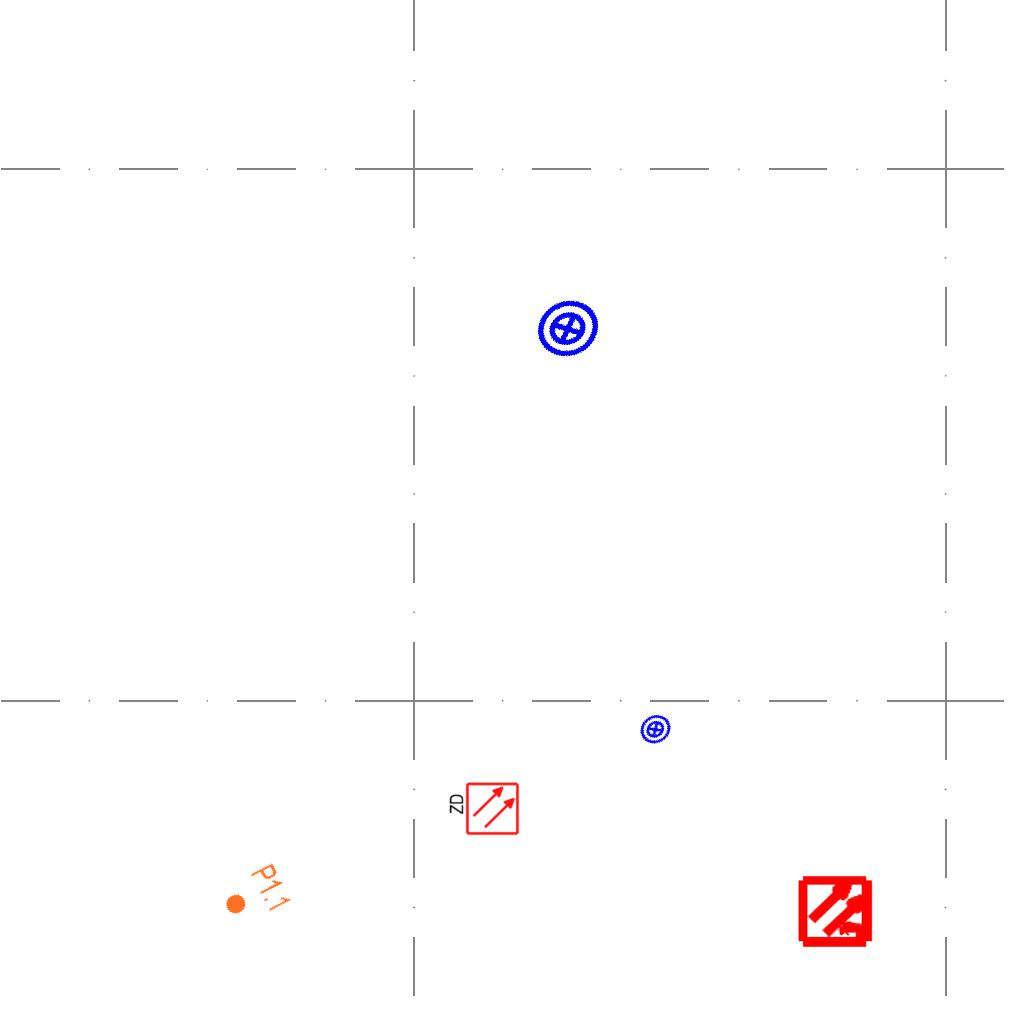Downlight_LED_Einbauleuchten_Flur: (216, 860, 294, 932)
OT_Multisensormelder_(Kombination_RMO_WMD): (781, 855, 894, 968)
Taster_beleuchtet: (524, 285, 612, 373), (632, 706, 679, 753)
ZD_Melder_in_Zwischendecke_mit_Revisionsoeffnung_mind_40_x_40_cm: (446, 781, 520, 838)
